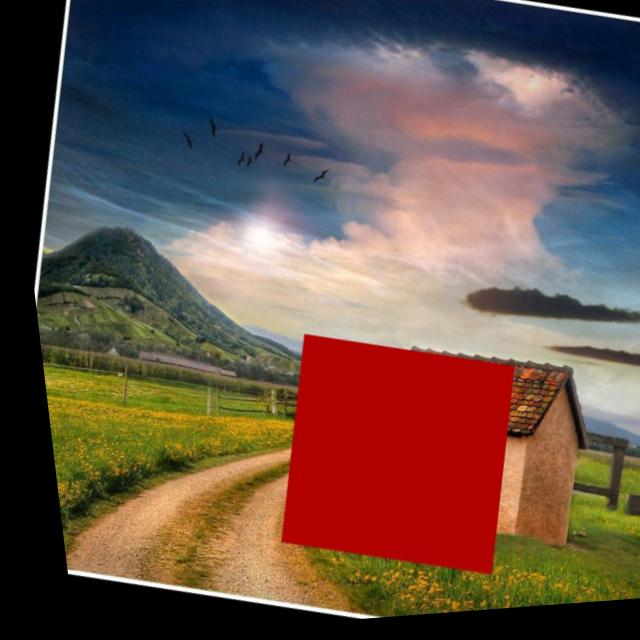RedSquare: (240, 317, 533, 602)
